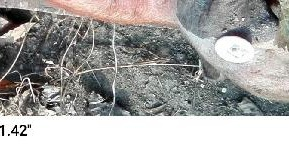text: (203, 19, 266, 74)
